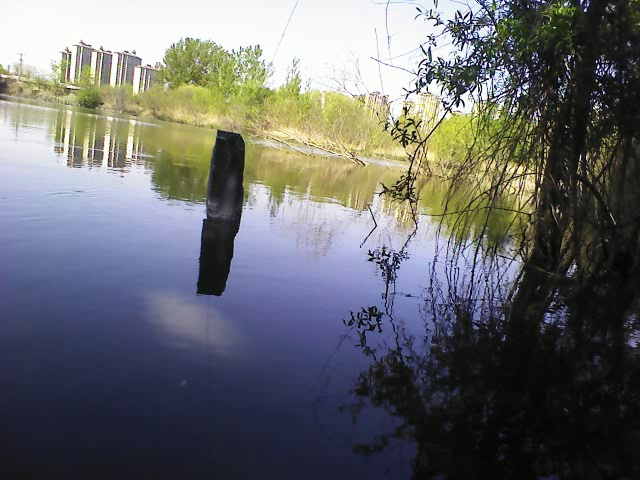rock: (202, 125, 250, 225)
